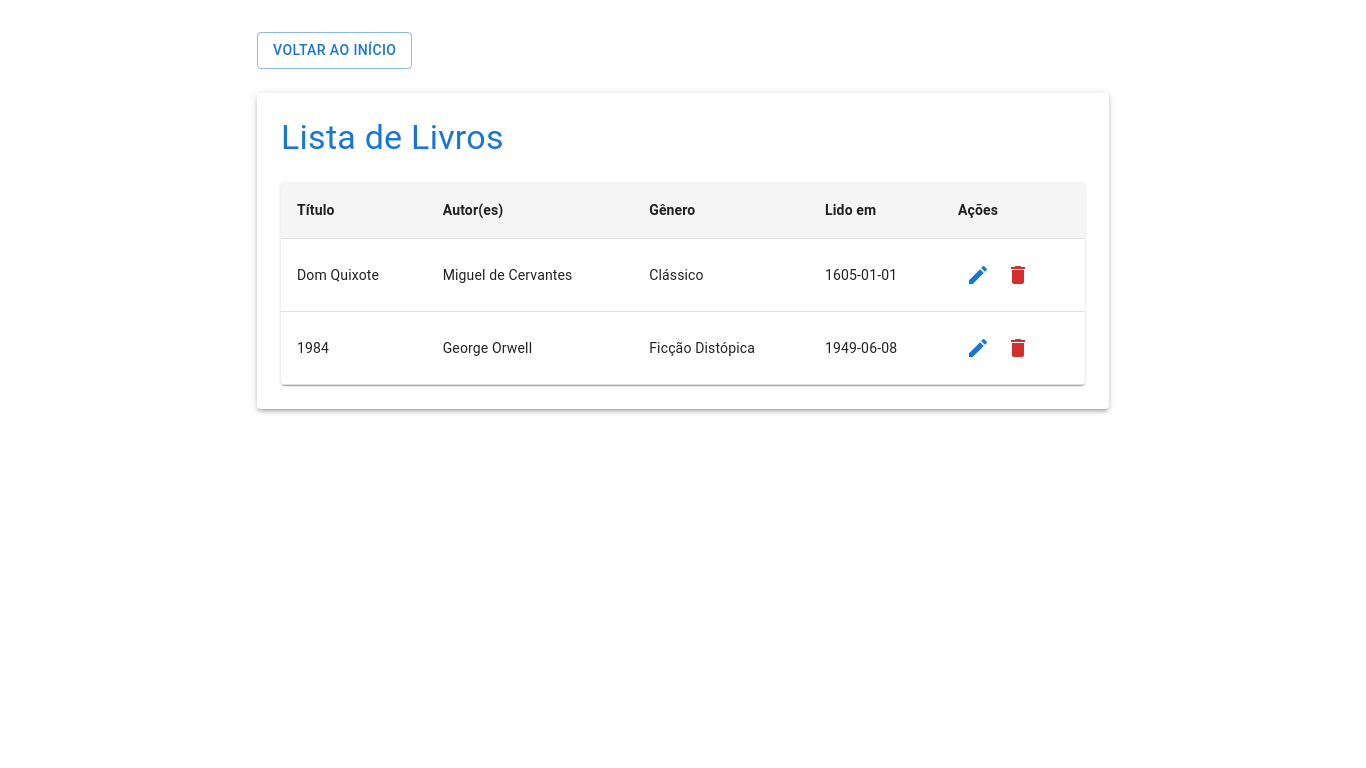
Test: List Component › deve abrir dialog de confirmação ao clicar no botão de deletar
Check: the table is shown, box [281,182,1085,386]
Click the button with test id "delete-button-".
click(1018, 276)  # box [998,256,1038,296]
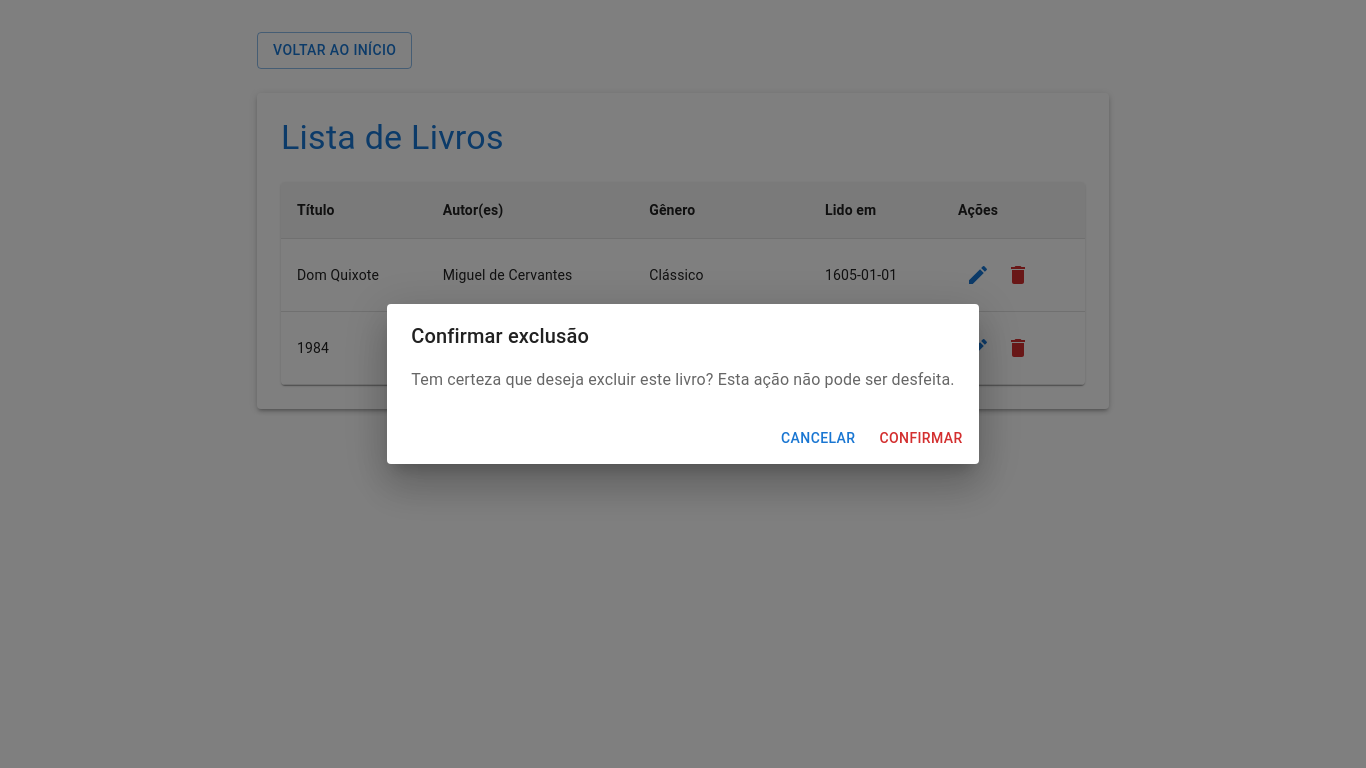
Check: the heading "Confirmar exclusão" is shown, box [411,324,589,348]
Check: the button with test id "confirm-delete-button" is shown, box [872,420,971,456]
